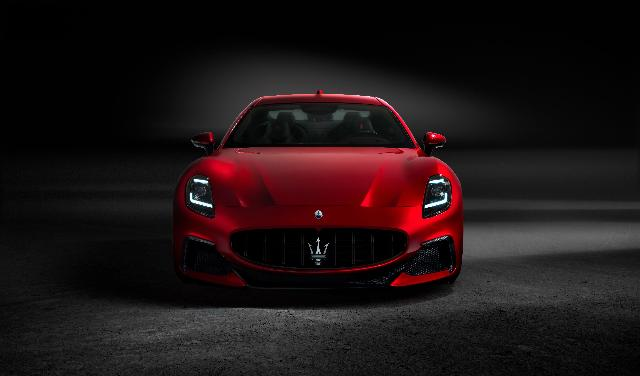maserati: (172, 90, 464, 294)
